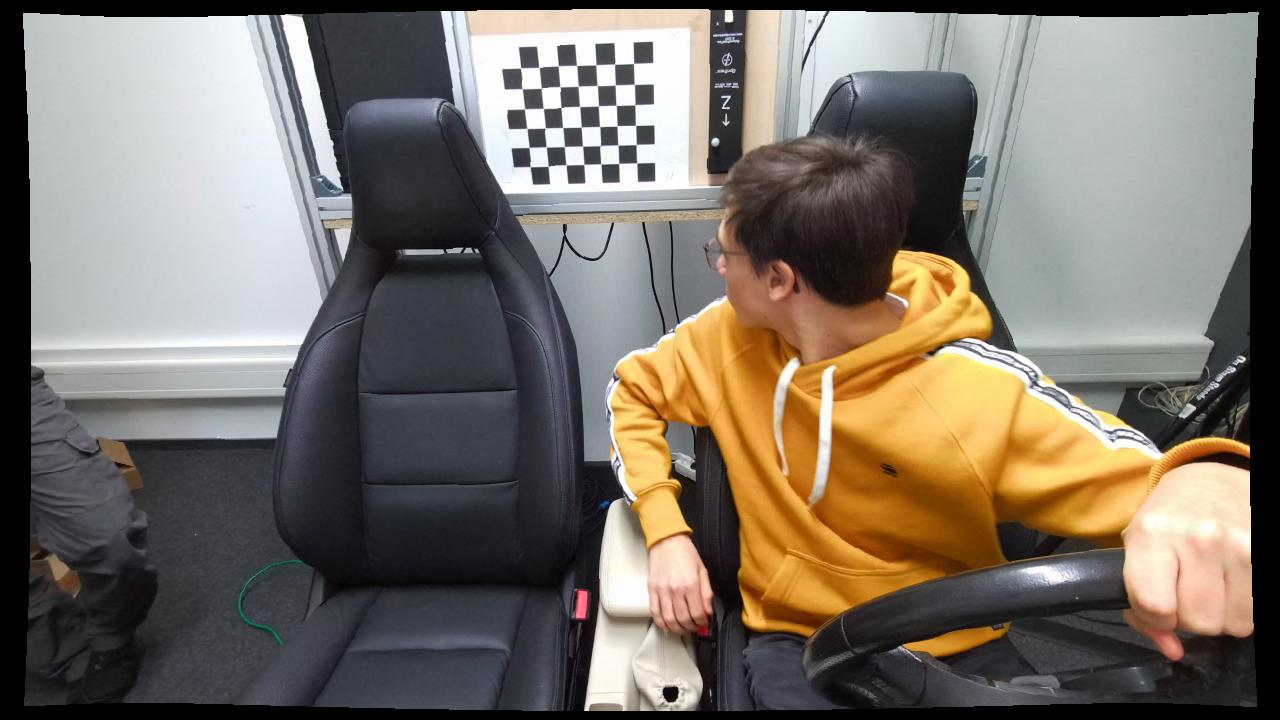Distracted: (602, 123, 1106, 708)
